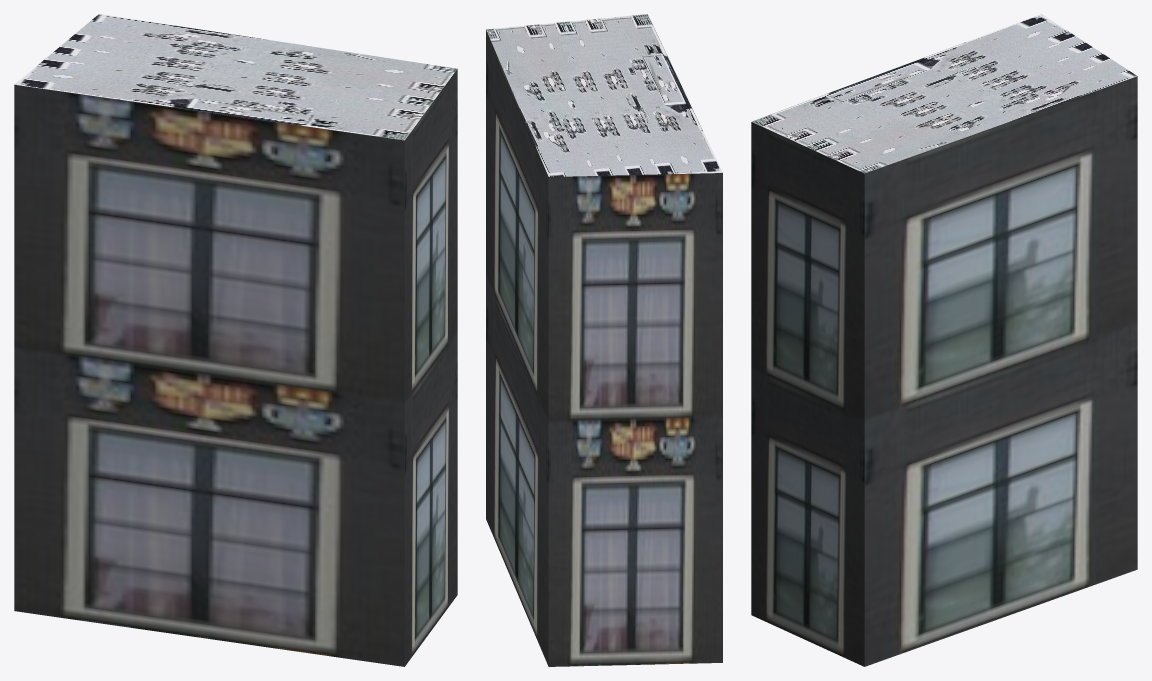
Rendered from ResTex__4772.fbx.
3 renders of one model, left to right at view 1: azimuth 30°, elevation 25°; view 2: azimuth 150°, elevation 25°; view 3: azimuth 270°, elevation 25°, orthographic. The views are drawn at different scales.
Visible parts, largest first — view 1: CityEngineMaterial_22_m, CityEngineMaterial_4_m; view 2: CityEngineMaterial_22_m, CityEngineMaterial_4_m; view 3: CityEngineMaterial_22_m, CityEngineMaterial_4_m.
Boxes of the visible parts, bbox=[...] form: CityEngineMaterial_22_m: bbox=[14, 69, 457, 666]; CityEngineMaterial_4_m: bbox=[15, 14, 457, 140]; CityEngineMaterial_22_m: bbox=[486, 30, 722, 666]; CityEngineMaterial_4_m: bbox=[486, 14, 722, 176]; CityEngineMaterial_22_m: bbox=[751, 76, 1137, 666]; CityEngineMaterial_4_m: bbox=[751, 14, 1137, 173].
Bounding box in the file's own units: 4.16 × 6 × 4.26.
Materials: 2 (2 with a texture image).
